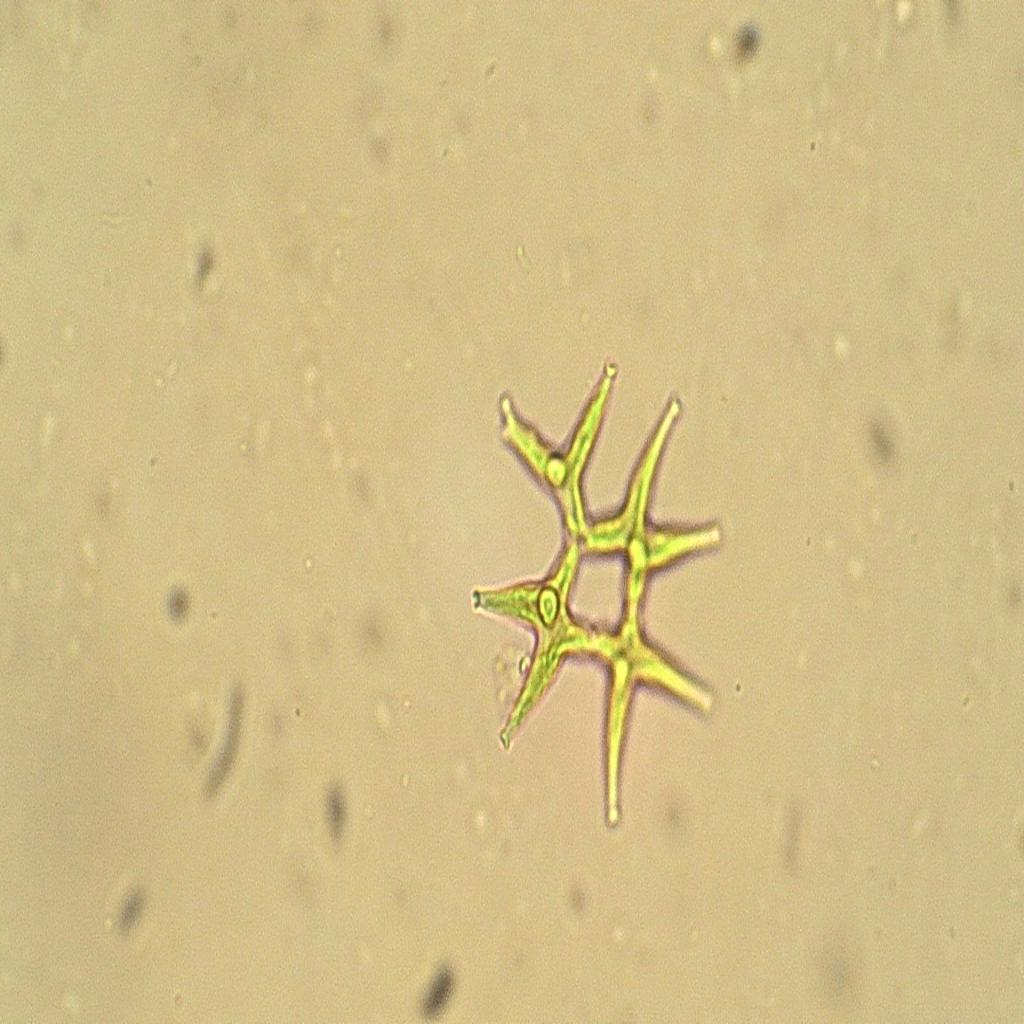Pediastrum_CT: (455, 351, 736, 861)
